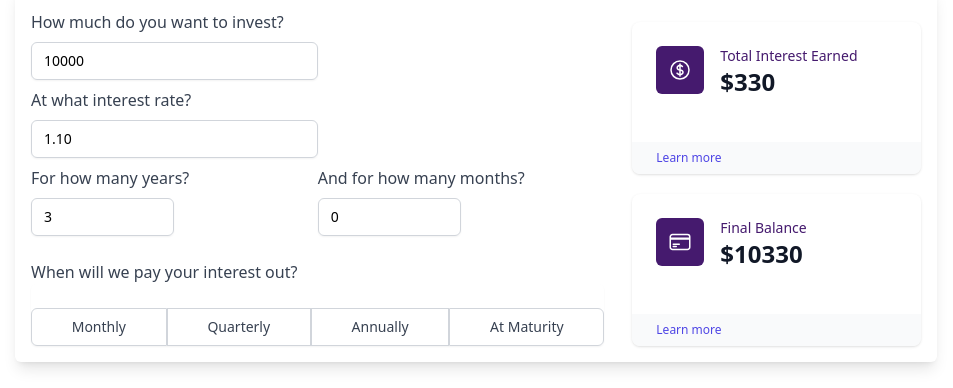
Test: Home › when the interest payout is changed › updates the interest earned
Expected: the element with test id "total-interest-earned" shows "$330", [720,65,775,98]
Click the button "Monthly" at (99,327), box [31,308,167,346]
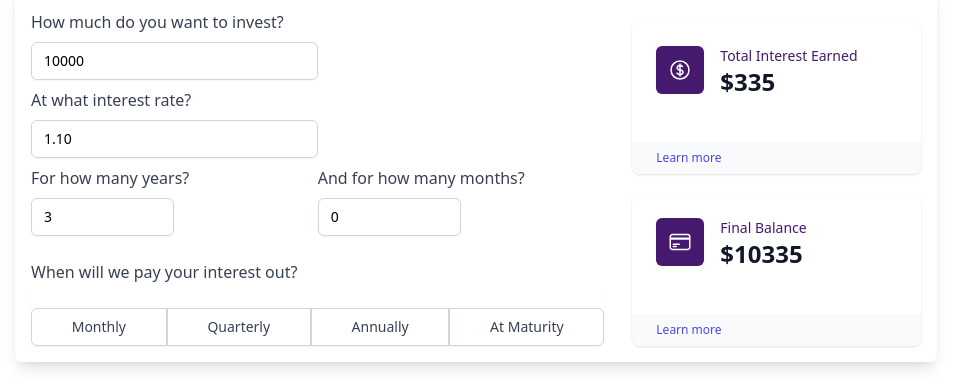
Expected: the element with test id "total-interest-earned" shows "$335", [720,65,775,98]
